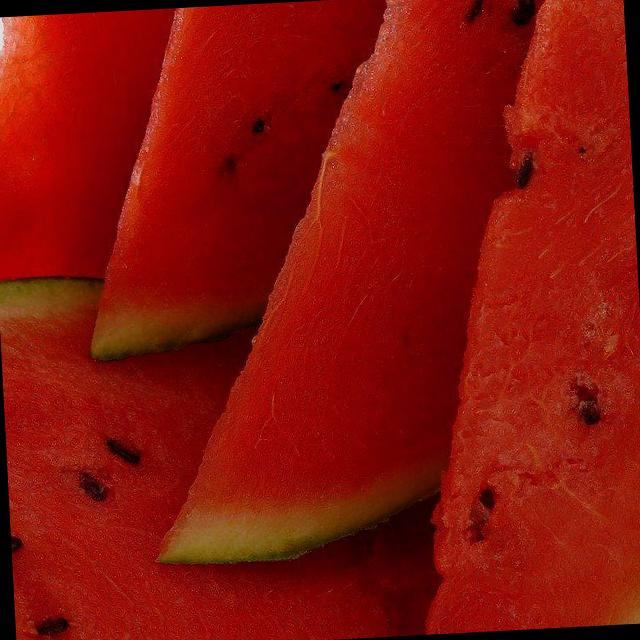watermelon: (131, 0, 640, 563), (0, 244, 614, 640), (69, 0, 640, 358), (356, 0, 640, 636), (0, 0, 349, 305)
